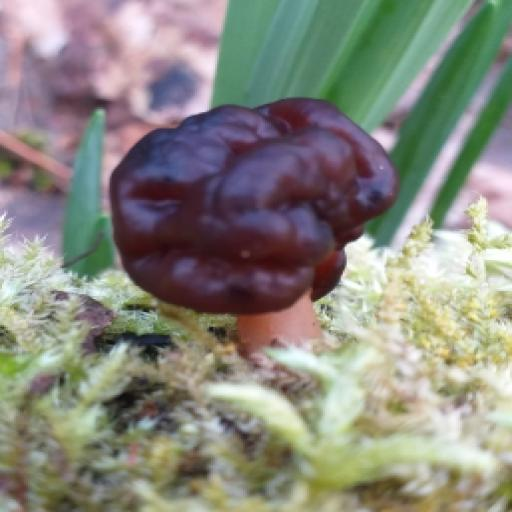mushroom: (83, 38, 404, 362)
